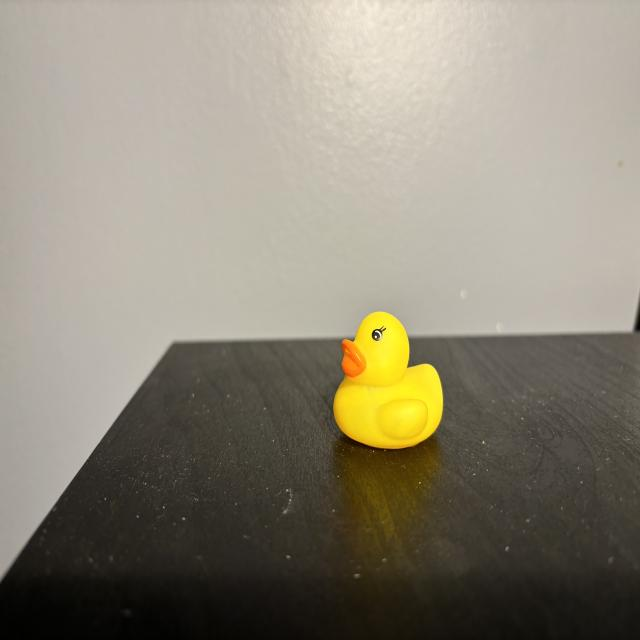duck_regular: (335, 313, 444, 450)
